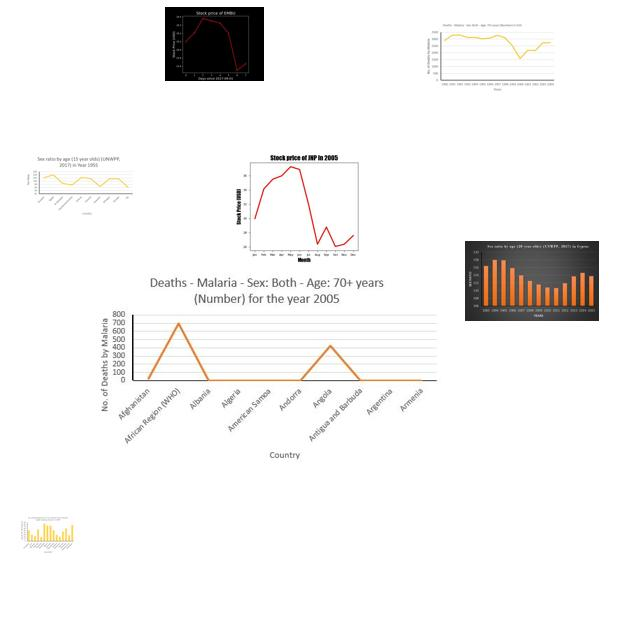Graph: (95, 268, 442, 469), (219, 149, 385, 263), (465, 241, 599, 321), (423, 22, 556, 93), (165, 7, 264, 81), (26, 154, 134, 216), (20, 516, 75, 554)
